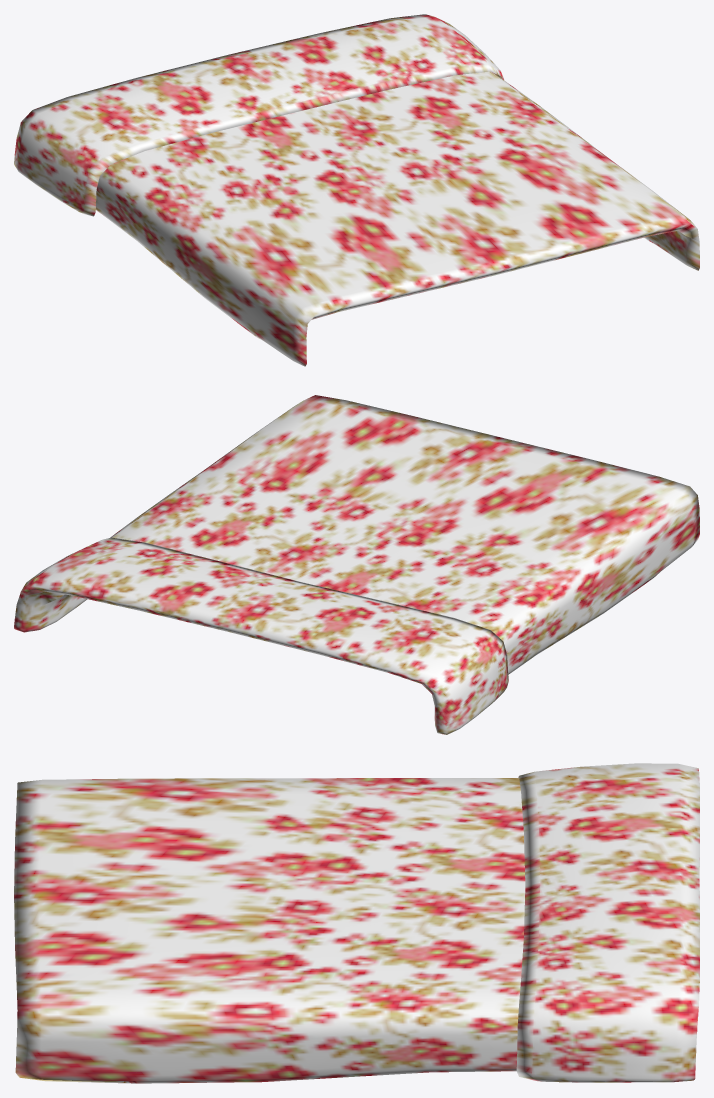
Rendered from bed_sheet Copper Grove Aanekoski.fbx.
The picture shows the model from 3 angles, top to bottom: view 1: azimuth 30°, elevation 25°; view 2: azimuth 150°, elevation 25°; view 3: azimuth 270°, elevation 25°; orthographic projection. The views are drawn at different scales.
Parts seen in each view (by area): view 1: bed_sheet Copper Grove Aanekoski; view 2: bed_sheet Copper Grove Aanekoski; view 3: bed_sheet Copper Grove Aanekoski.
Part boxes in pixels (x1,y1,x2,y2): bed_sheet Copper Grove Aanekoski: [14, 14, 699, 366]; bed_sheet Copper Grove Aanekoski: [14, 395, 699, 734]; bed_sheet Copper Grove Aanekoski: [14, 763, 699, 1083].
Bounding box in the file's own units: 1.99 × 0.3156 × 2.15.
